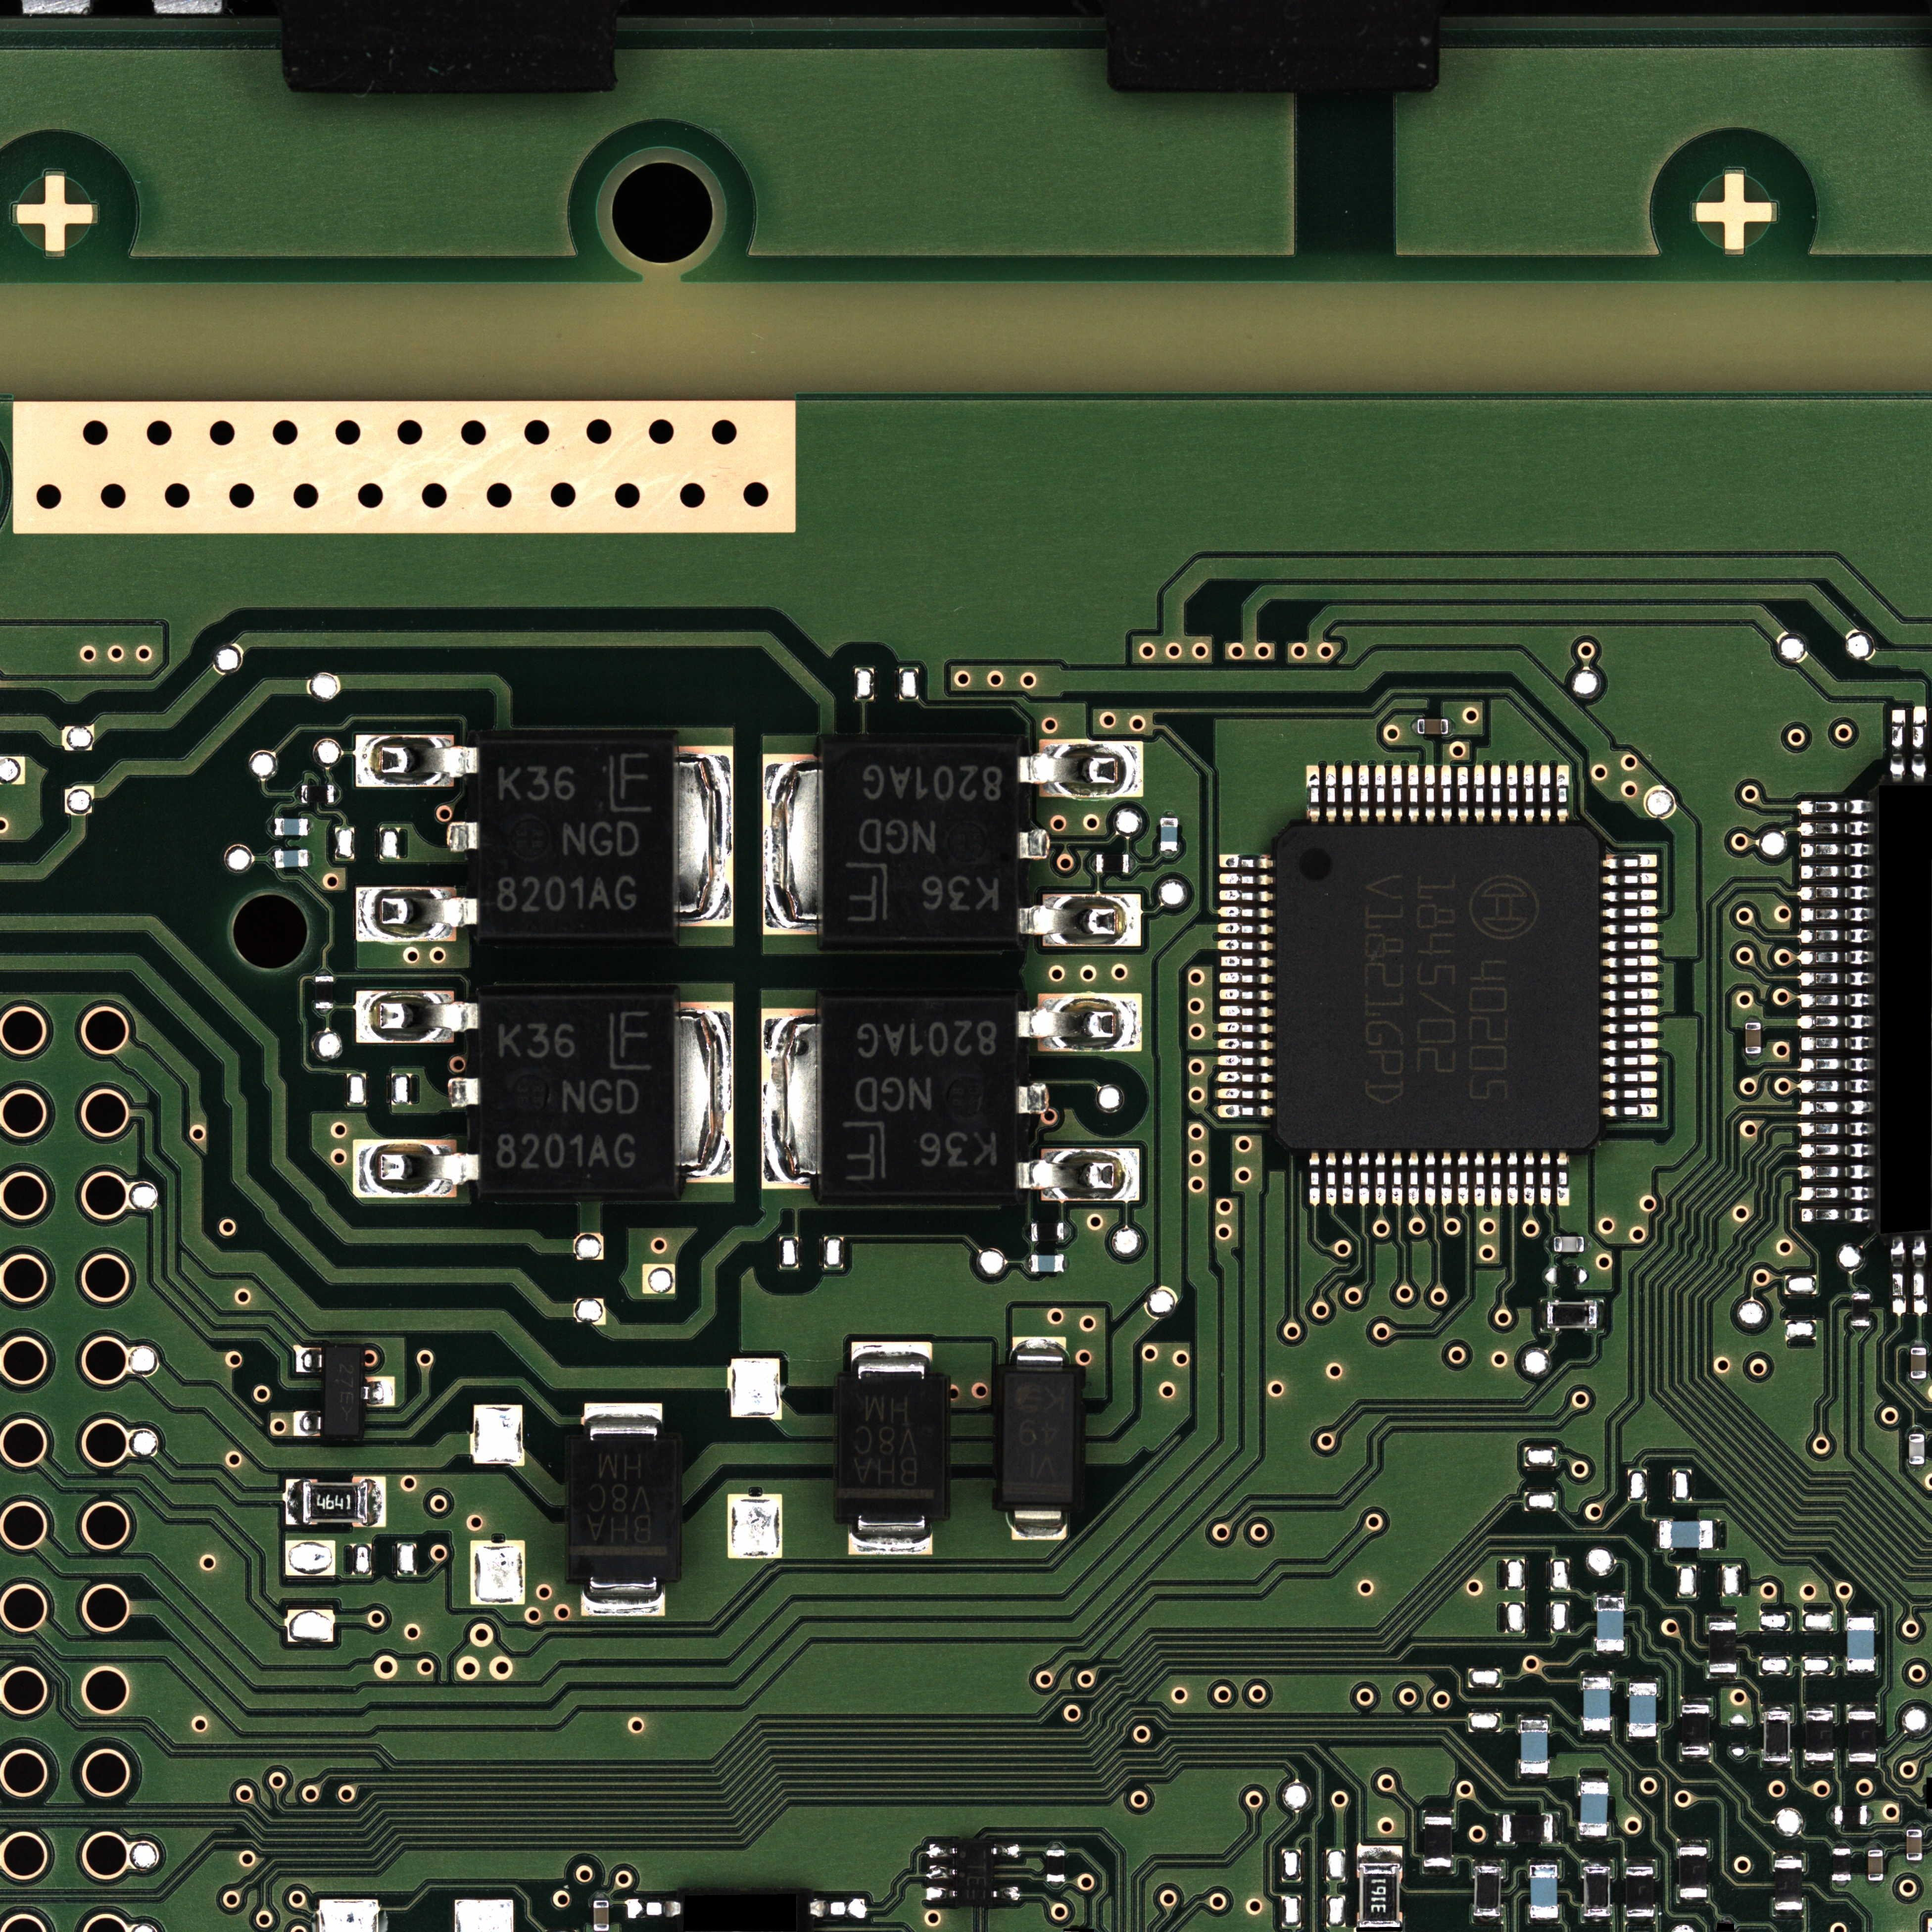Package: (1277, 824, 1599, 1148), (823, 743, 1017, 943), (479, 993, 674, 1191), (481, 738, 671, 941), (826, 996, 1014, 1196), (839, 1378, 947, 1514), (570, 1442, 678, 1576), (1001, 1373, 1076, 1504), (324, 1345, 361, 1437), (303, 1483, 368, 1523), (1361, 1863, 1399, 1928), (959, 1842, 991, 1904), (1580, 1782, 1608, 1836), (1520, 1720, 1548, 1773), (1596, 1598, 1624, 1651), (1847, 1617, 1875, 1670), (1849, 1711, 1877, 1762), (1583, 1677, 1610, 1730), (1629, 1684, 1656, 1737), (1660, 1522, 1713, 1548), (1530, 1865, 1557, 1918), (1424, 1817, 1453, 1867), (1679, 1847, 1707, 1897), (1775, 1859, 1803, 1909), (1626, 1867, 1654, 1916), (1502, 1815, 1553, 1842), (1683, 1706, 1709, 1755), (1548, 1302, 1598, 1329), (1806, 1711, 1833, 1760), (1709, 1622, 1736, 1672), (1474, 1867, 1500, 1916), (1764, 1711, 1789, 1760), (1585, 1867, 1610, 1916), (315, 977, 334, 1008), (1097, 855, 1129, 874), (1031, 1223, 1063, 1242), (1046, 1849, 1065, 1881), (274, 849, 308, 867), (301, 786, 334, 803), (1161, 817, 1178, 851), (1031, 1254, 1063, 1272), (1833, 1849, 1851, 1881), (1835, 1806, 1867, 1824), (1852, 1293, 1870, 1325), (274, 819, 308, 835), (1417, 718, 1447, 734), (1553, 1237, 1583, 1253), (1911, 1348, 1927, 1378), (593, 1900, 609, 1930), (1907, 1829, 1921, 1861), (1909, 1435, 1925, 1463), (1746, 1023, 1760, 1053), (1868, 1851, 1882, 1881)
Solder: (672, 747, 734, 925), (761, 1010, 823, 1189), (763, 755, 823, 934), (674, 1001, 734, 1180), (1019, 738, 1143, 798), (354, 1139, 478, 1198), (1017, 994, 1141, 1053), (356, 885, 479, 941), (1017, 1148, 1141, 1203), (356, 989, 478, 1044), (1019, 893, 1141, 948), (356, 734, 479, 787), (849, 1516, 932, 1555), (580, 1578, 663, 1617), (584, 1403, 663, 1442), (853, 1341, 932, 1378), (1010, 1504, 1067, 1541), (1012, 1336, 1067, 1373), (1890, 1235, 1907, 1316), (1911, 1235, 1928, 1316), (1796, 819, 1875, 837), (1796, 906, 1875, 924), (1796, 1035, 1875, 1053), (1796, 1056, 1875, 1074), (1796, 927, 1874, 945), (1796, 948, 1874, 966), (1796, 1014, 1874, 1031), (1911, 704, 1928, 780), (1890, 709, 1907, 782), (1796, 800, 1875, 816), (1796, 842, 1875, 858), (1796, 971, 1875, 987), (1796, 1079, 1875, 1095), (1798, 1100, 1877, 1116), (1798, 1143, 1877, 1159), (1796, 1164, 1875, 1180), (1796, 1185, 1875, 1201), (1796, 1207, 1875, 1223), (1796, 863, 1874, 879), (1796, 885, 1874, 901), (1796, 993, 1874, 1008), (1798, 1122, 1875, 1138), (809, 1898, 867, 1920), (625, 1898, 683, 1920), (448, 821, 479, 851), (363, 1376, 395, 1407), (448, 1077, 479, 1108), (1017, 1085, 1049, 1115), (1019, 830, 1049, 860), (368, 1477, 386, 1527), (1306, 764, 1320, 823), (285, 1479, 303, 1525), (1357, 1845, 1403, 1863), (1217, 1104, 1274, 1118), (1601, 855, 1658, 869), (1219, 855, 1274, 869), (1391, 764, 1403, 824), (1440, 764, 1453, 824), (1557, 764, 1569, 824), (1539, 764, 1552, 824), (1490, 764, 1502, 824), (1341, 766, 1353, 824), (1601, 939, 1660, 952), (1601, 955, 1660, 968), (295, 1348, 324, 1373), (294, 1412, 322, 1437), (1217, 906, 1274, 918), (1217, 922, 1274, 934), (1217, 939, 1274, 952), (1325, 766, 1338, 823), (1217, 1088, 1274, 1100), (1217, 1072, 1274, 1085), (1217, 1039, 1274, 1051), (1217, 1054, 1274, 1067), (1601, 890, 1658, 902), (1601, 906, 1658, 918), (1601, 1005, 1658, 1017), (1601, 1054, 1658, 1067), (1219, 890, 1274, 902), (1219, 955, 1274, 968), (1219, 971, 1274, 984), (1219, 1005, 1274, 1017), (1219, 989, 1274, 1001), (1603, 1104, 1658, 1116), (1523, 1152, 1536, 1207), (1325, 1152, 1338, 1205), (1408, 764, 1419, 824), (1424, 764, 1435, 824), (1375, 764, 1385, 824), (1523, 764, 1534, 824), (1507, 764, 1518, 824), (1474, 764, 1484, 824), (1359, 766, 1369, 824), (1458, 766, 1468, 824), (1601, 924, 1660, 934), (1217, 1023, 1274, 1033), (1601, 874, 1658, 885), (1601, 973, 1658, 984), (1601, 1023, 1658, 1033), (1601, 1039, 1658, 1049), (1601, 989, 1658, 1000), (1601, 1072, 1658, 1083), (1219, 874, 1274, 885), (1408, 1152, 1419, 1207), (1424, 1152, 1435, 1207), (1392, 1152, 1403, 1207), (1442, 1152, 1453, 1207), (1375, 1152, 1385, 1207), (1603, 1088, 1658, 1099), (1557, 1152, 1568, 1207), (1541, 1152, 1552, 1207), (1507, 1152, 1518, 1207), (1491, 1152, 1502, 1207), (1474, 1152, 1484, 1207), (1359, 1152, 1369, 1205), (1309, 1152, 1320, 1205), (1458, 1152, 1468, 1205), (1343, 1152, 1353, 1203), (925, 1886, 957, 1900), (993, 1886, 1021, 1902), (927, 1844, 957, 1858), (927, 1865, 957, 1879), (991, 1845, 1021, 1858), (1422, 1808, 1454, 1817), (1422, 1867, 1453, 1875), (1539, 1299, 1546, 1332), (1592, 1651, 1626, 1658), (1713, 1518, 1720, 1552), (1652, 1518, 1660, 1552), (1495, 1813, 1502, 1847), (1553, 1812, 1560, 1845), (1596, 1299, 1603, 1330), (1706, 1615, 1737, 1622), (1845, 1610, 1877, 1617), (1707, 1672, 1737, 1679), (1472, 1916, 1502, 1923), (1681, 1755, 1711, 1762), (1845, 1672, 1879, 1677), (1046, 1842, 1065, 1851), (1529, 1858, 1559, 1863), (1582, 1732, 1612, 1737), (1582, 1672, 1612, 1677), (1677, 1842, 1707, 1847), (1582, 1916, 1612, 1921), (1681, 1698, 1711, 1704), (1805, 1706, 1835, 1711), (1628, 1737, 1658, 1743), (1762, 1762, 1792, 1767), (1805, 1762, 1835, 1767), (1762, 1706, 1792, 1711), (1847, 1706, 1877, 1711), (1582, 1859, 1612, 1865), (1628, 1677, 1658, 1683), (1063, 1223, 1072, 1240), (1849, 1762, 1877, 1767), (1520, 1773, 1548, 1778), (1596, 1592, 1624, 1598), (1474, 1859, 1502, 1865), (1520, 1714, 1548, 1720), (1775, 1911, 1803, 1916), (1580, 1776, 1608, 1782), (1626, 1918, 1654, 1923), (1626, 1861, 1654, 1867), (1775, 1854, 1803, 1859), (1580, 1836, 1608, 1842), (1679, 1898, 1707, 1904), (1046, 1882, 1065, 1890), (1867, 1805, 1874, 1824), (267, 817, 274, 835), (315, 970, 333, 977), (1161, 810, 1178, 817), (1161, 851, 1178, 858), (1024, 1224, 1031, 1242), (1063, 1254, 1070, 1272), (1024, 1254, 1031, 1272), (1852, 1286, 1870, 1293), (315, 1008, 333, 1016), (269, 851, 276, 867), (308, 819, 315, 835), (308, 851, 315, 867), (1410, 718, 1417, 734), (1449, 718, 1456, 734), (1911, 1341, 1927, 1348), (1909, 1428, 1925, 1435), (593, 1893, 609, 1900), (1529, 1920, 1559, 1923), (1851, 1327, 1870, 1332), (334, 786, 340, 803), (295, 786, 301, 803), (1129, 855, 1134, 872), (1090, 855, 1095, 872), (1744, 1054, 1762, 1060), (1909, 1378, 1927, 1384), (1829, 1806, 1835, 1824), (1833, 1881, 1851, 1886), (1583, 1237, 1589, 1253), (1744, 1017, 1760, 1023), (1548, 1237, 1553, 1253), (1718, 1918, 1734, 1923), (1868, 1881, 1882, 1886), (1907, 1824, 1921, 1829), (1833, 1844, 1849, 1847), (1909, 1465, 1925, 1468), (1868, 1845, 1882, 1849), (1907, 1861, 1921, 1865)
